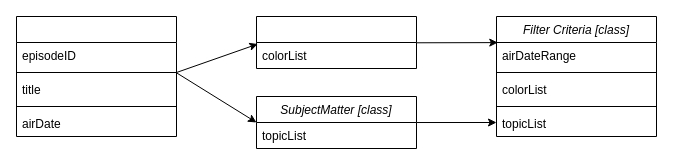
This 673x165 diagram has some shape labels left out. Here are the shapes that lost their labels. From the top down, the box of each, then its label:
(256, 16, 416, 68): ColorPalette [class]
(16, 16, 176, 136): TV Episode [class]
